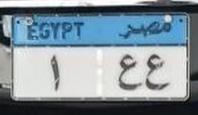1: (49, 54, 61, 91)
ain: (119, 52, 140, 91), (146, 52, 166, 91)
